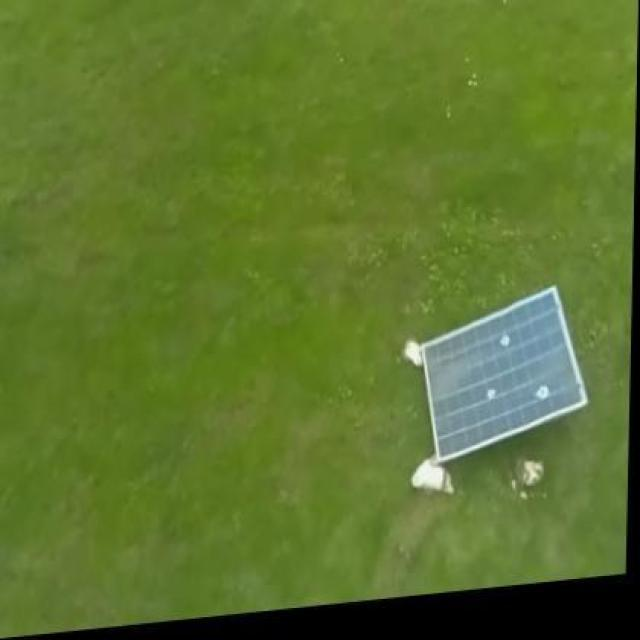soiled: (424, 286, 592, 462)
